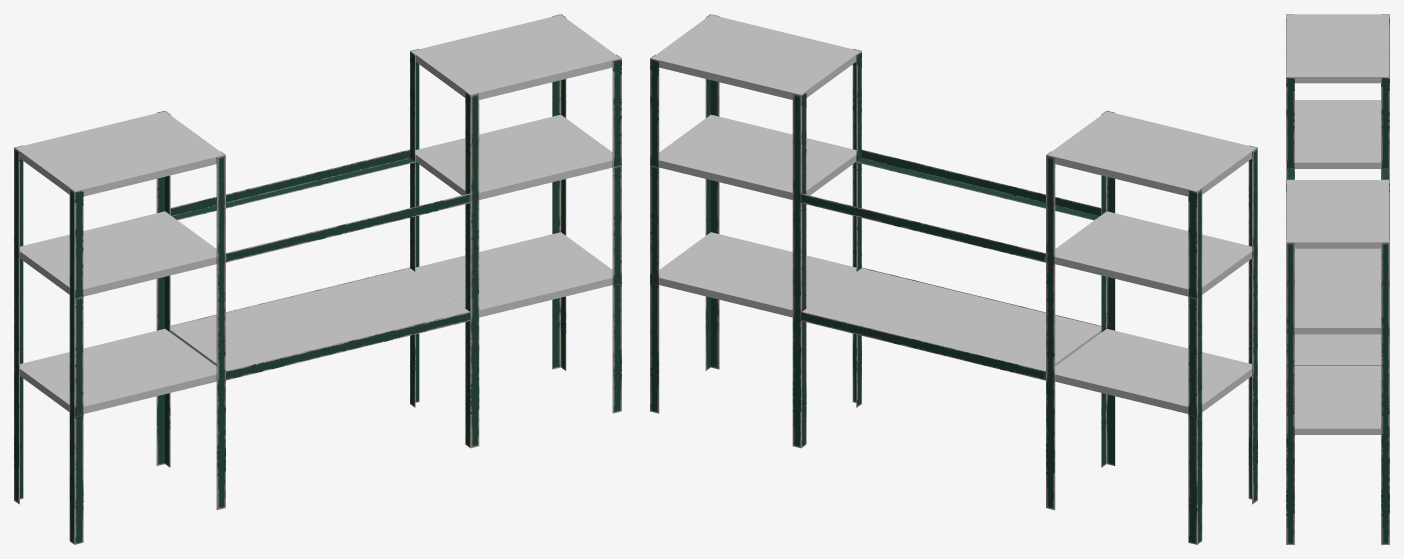
File: ShelfEmpty.fbx
3 views of the same model, side by side, from view 1: azimuth 30°, elevation 25°; view 2: azimuth 150°, elevation 25°; view 3: azimuth 270°, elevation 25° (orthographic). The views are drawn at different scales.
Visible parts, largest first — view 1: Shelf; view 2: Shelf; view 3: Shelf.
Part boxes in pixels (x1,y1,x2,y2): Shelf: (14, 14, 621, 544); Shelf: (650, 14, 1257, 544); Shelf: (1286, 14, 1389, 544).
Size of the model in its own units: 401 by 247 by 76.97.
